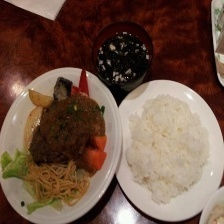rice: (126, 95, 212, 205)
